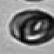correct: (8, 8, 54, 47)
